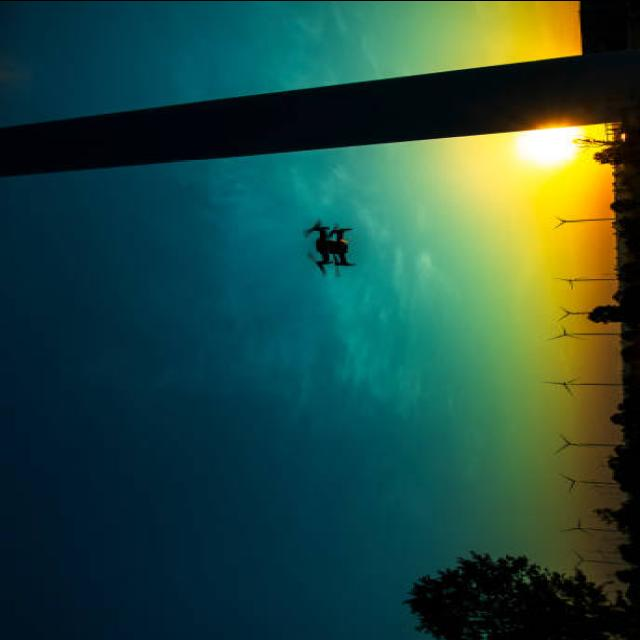drone: (302, 220, 356, 276)
